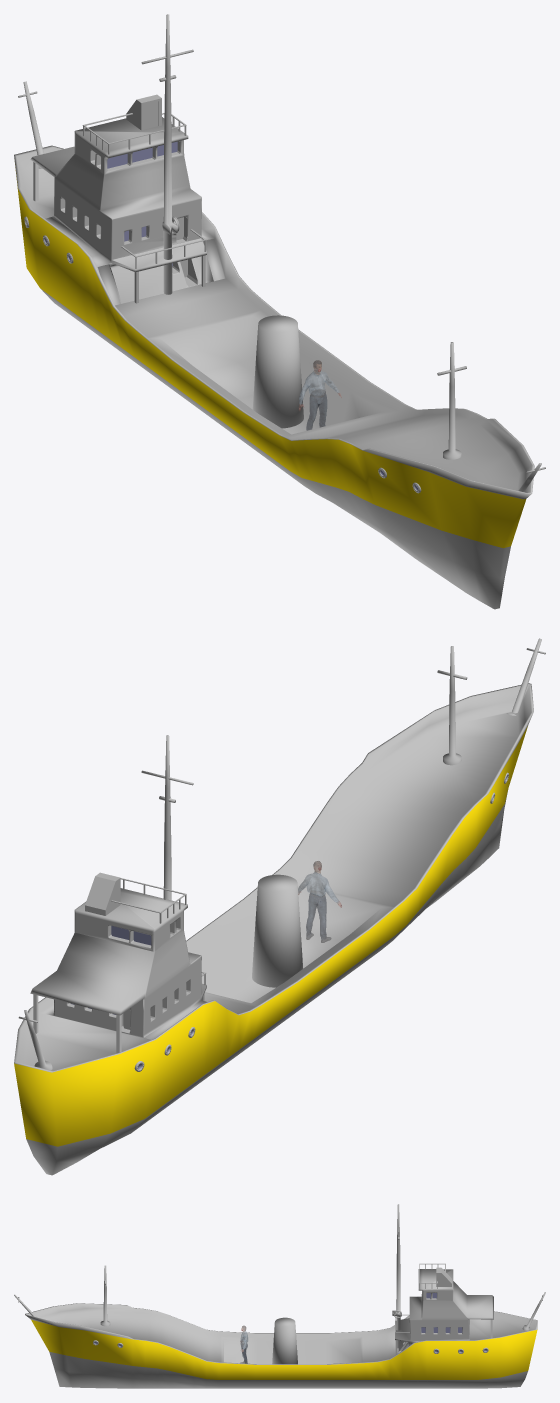
Rendered from D4_Ship5.glb.
3 views of the same model, one above another, from view 1: azimuth 30°, elevation 25°; view 2: azimuth 150°, elevation 25°; view 3: azimuth 270°, elevation 25° (orthographic). The views are drawn at different scales.
Parts seen in each view (by area): view 1: Object_6, Object_2, Cylinder, Object_2.001, Object_4; view 2: Object_6, Object_2, Cylinder, Object_2.001; view 3: Object_6, Object_2, Cylinder.
Part boxes in pixels (left/top/right/bottom): Object_6: left=14, top=14, right=545, bottom=609; Object_2: left=15, top=164, right=526, bottom=548; Cylinder: left=252, top=315, right=303, bottom=428; Object_2.001: left=298, top=360, right=341, bottom=430; Object_4: left=26, top=141, right=418, bottom=490; Object_6: left=14, top=638, right=545, bottom=1175; Object_2: left=14, top=726, right=527, bottom=1146; Cylinder: left=252, top=874, right=303, bottom=987; Object_2.001: left=298, top=861, right=341, bottom=942; Object_6: left=14, top=1204, right=545, bottom=1388; Object_2: left=31, top=1319, right=537, bottom=1379; Cylinder: left=272, top=1317, right=297, bottom=1364.
Bounding box in the file's own units: 6.14 × 16.34 × 43.39.
Materials: 5 (1 with a texture image).
